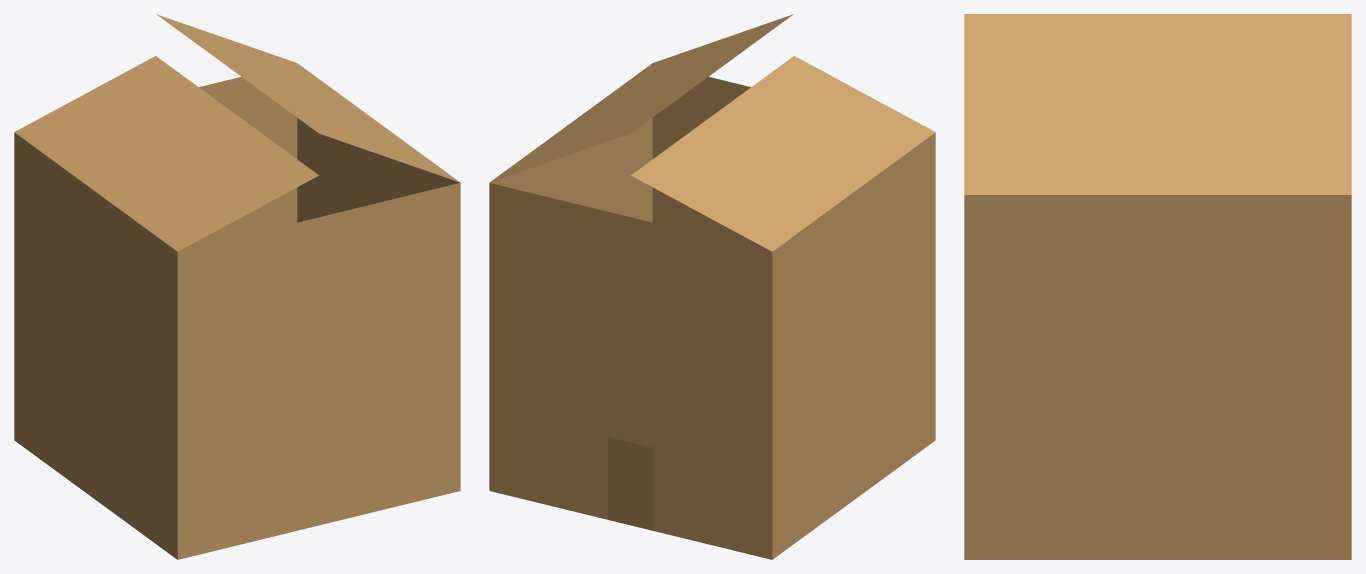
File: cardboardBoxClosed.glb
The picture shows the model from 3 angles, left to right: view 1: azimuth 30°, elevation 25°; view 2: azimuth 150°, elevation 25°; view 3: azimuth 270°, elevation 25°; orthographic projection. The views are drawn at different scales.
Bounding box in the file's own units: 2.12 × 2.81 × 2.13.
